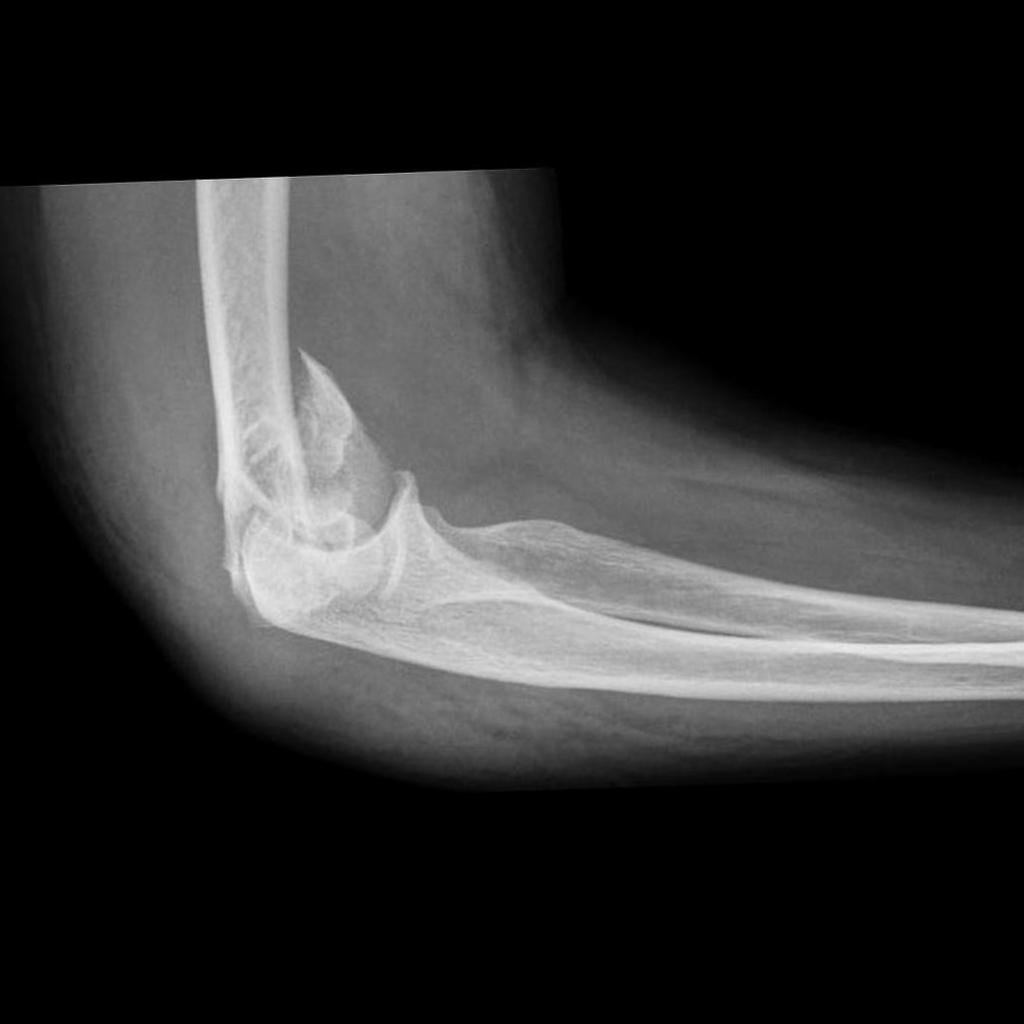messed_up_angle: (200, 324, 386, 532)
